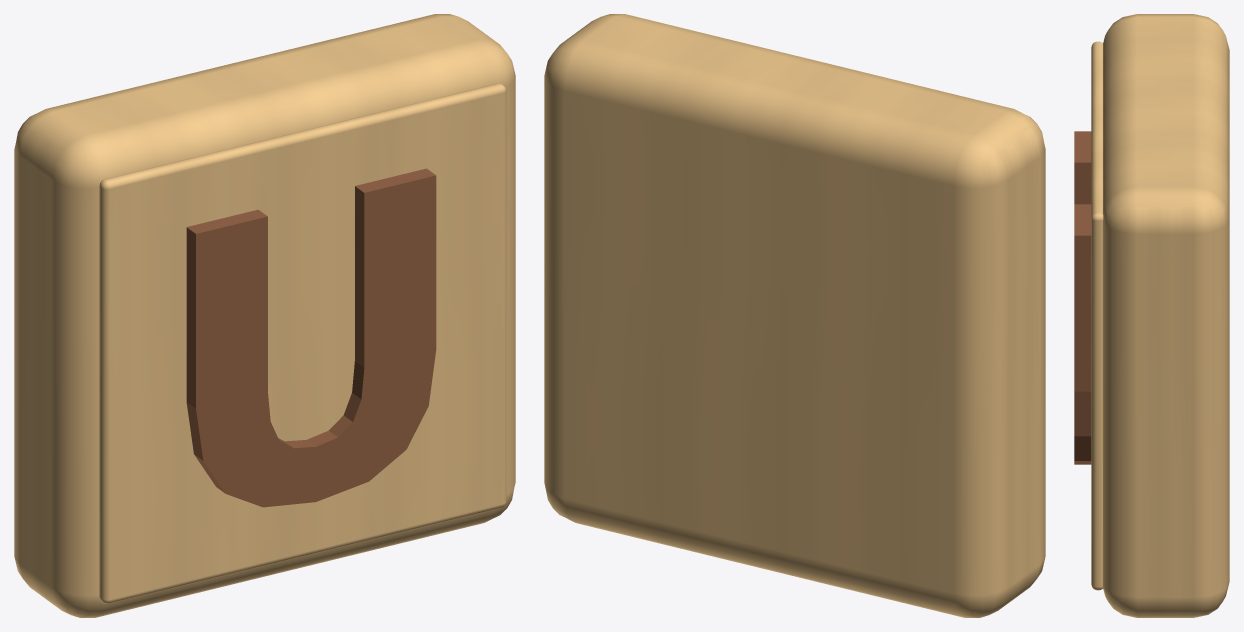
3 renders of one model, left to right at view 1: azimuth 30°, elevation 25°; view 2: azimuth 150°, elevation 25°; view 3: azimuth 270°, elevation 25°, orthographic. The views are drawn at different scales.
Visible parts, largest first — view 1: Tile_U; view 2: Tile_U; view 3: Tile_U.
Part boxes in pixels (x1,y1,x2,y2): Tile_U: (14, 14, 515, 617); Tile_U: (544, 14, 1045, 617); Tile_U: (1074, 14, 1229, 617).
Size of the model in its own units: 0.21 by 0.21 by 0.069.
2 materials, 1 textured.
